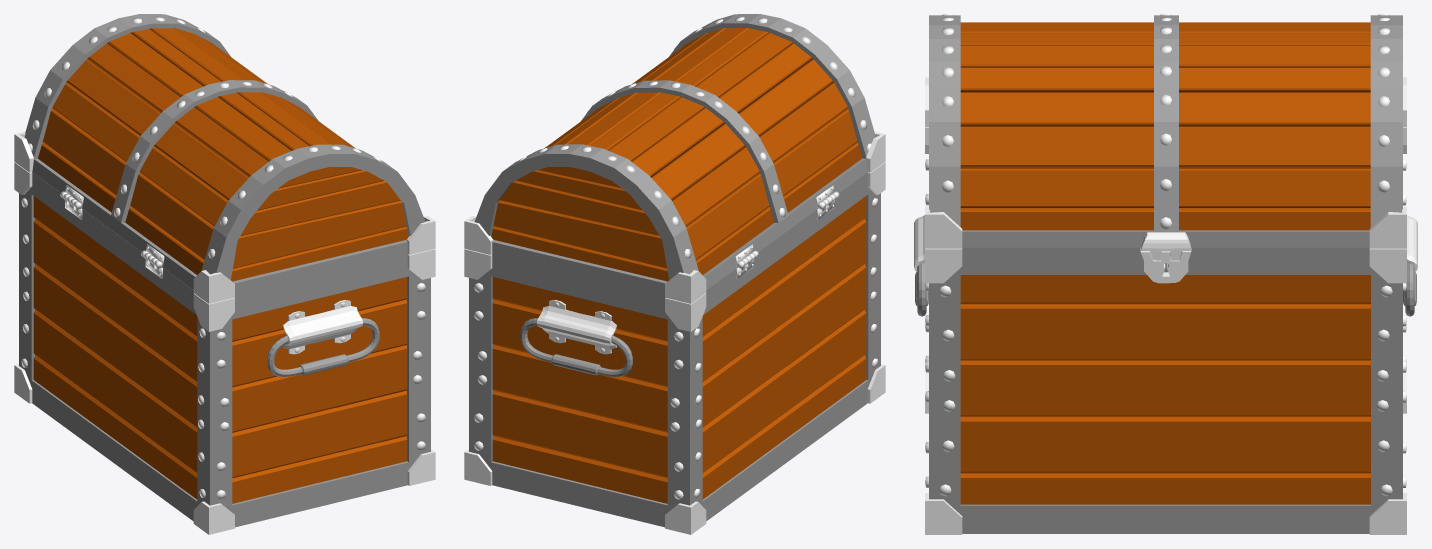
Rendered from ChestHighRoundTopHandled.fbx.
3 renders of one model, left to right at view 1: azimuth 30°, elevation 25°; view 2: azimuth 150°, elevation 25°; view 3: azimuth 270°, elevation 25°, orthographic. The views are drawn at different scales.
Visible parts, largest first — view 1: ChestHighRoundTopHandled_LOD0; view 2: ChestHighRoundTopHandled_LOD0; view 3: ChestHighRoundTopHandled_LOD0.
Part boxes in pixels (x1,y1,x2,y2): ChestHighRoundTopHandled_LOD0: [14, 14, 435, 534]; ChestHighRoundTopHandled_LOD0: [464, 14, 885, 534]; ChestHighRoundTopHandled_LOD0: [914, 14, 1417, 534].
Size of what is drawn, in the model's own units: 361 by 521 by 541.
